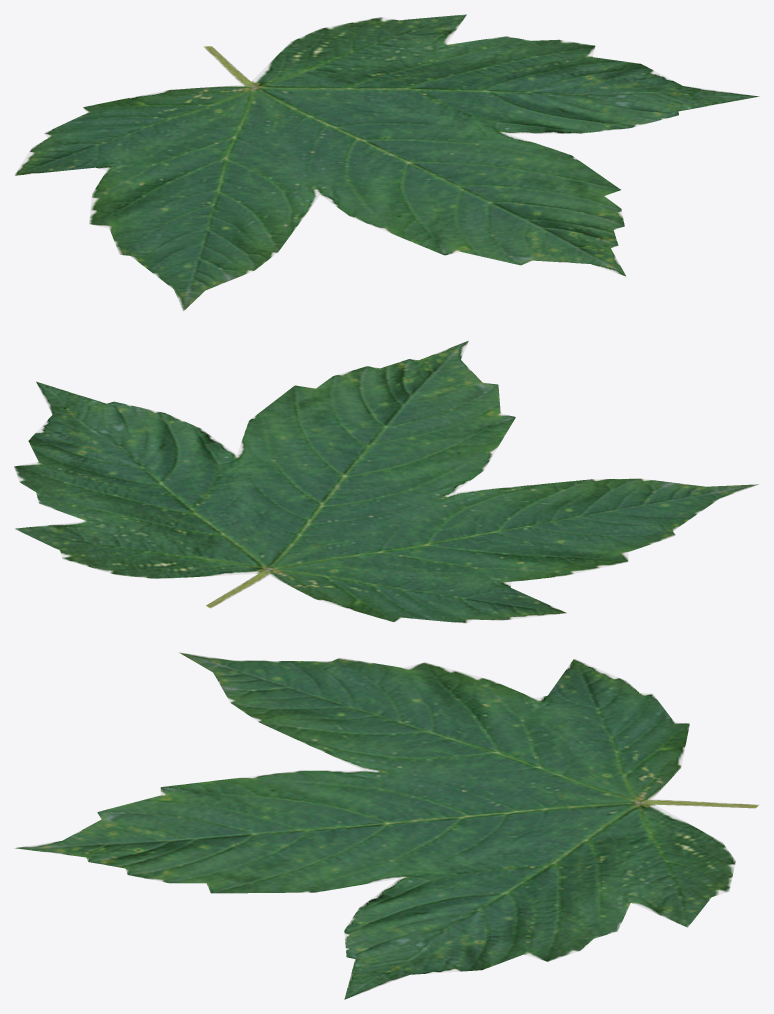
File: leaf.glb
3 views of the same model, one above another, from view 1: azimuth 30°, elevation 25°; view 2: azimuth 150°, elevation 25°; view 3: azimuth 270°, elevation 25° (orthographic). The views are drawn at different scales.
Visible parts, largest first — view 1: LeafObject; view 2: LeafObject; view 3: LeafObject.
Boxes of the visible parts, bbox=[...] form: LeafObject: bbox=[14, 14, 759, 311]; LeafObject: bbox=[14, 340, 759, 623]; LeafObject: bbox=[14, 652, 759, 999].
Size of the model in its own units: 376 by 0 by 341.
1 material, 1 textured.
